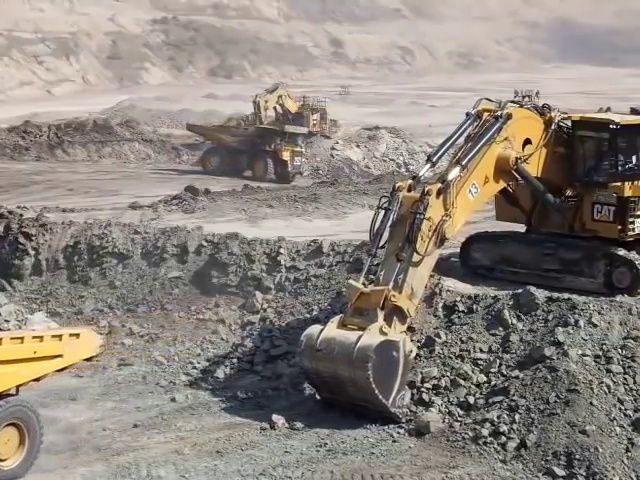dumper: (1, 320, 102, 479), (186, 119, 302, 178)
excavator: (294, 90, 640, 419), (232, 74, 334, 147)
